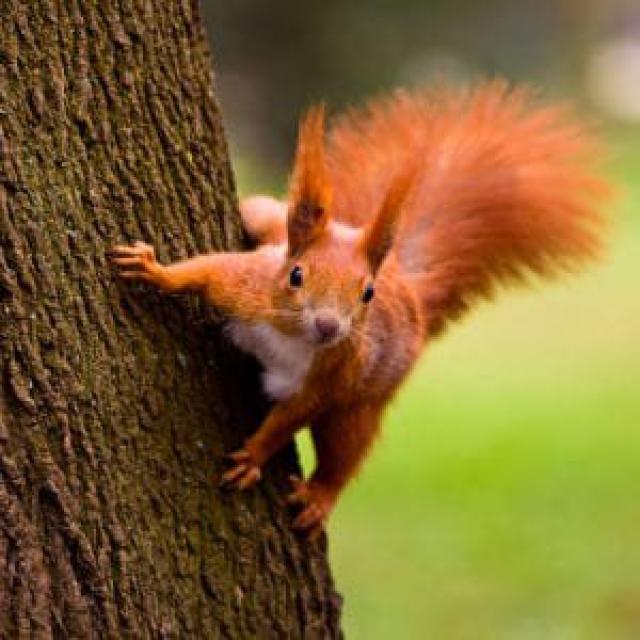Squirrel: (108, 82, 593, 526)
